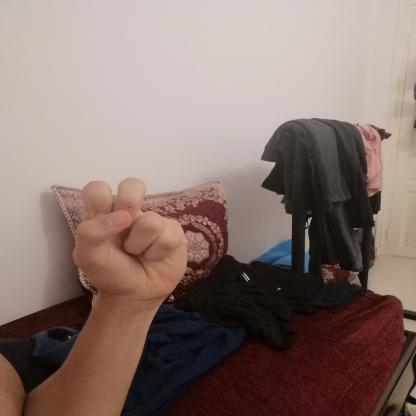QAAF: (47, 167, 215, 312)
